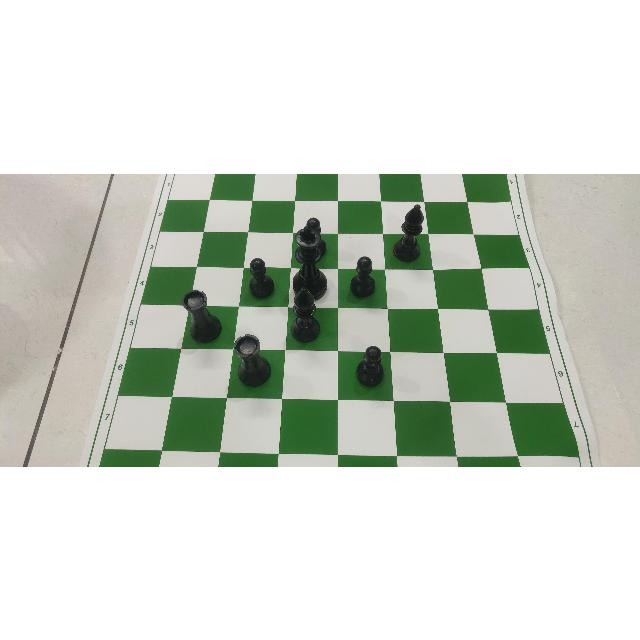black-bishop: (391, 203, 427, 262), (289, 283, 322, 345)
black-king: (291, 223, 329, 301)
black-pawn: (355, 344, 386, 388), (347, 254, 378, 298), (247, 255, 276, 299), (305, 215, 329, 258)
black-rook: (180, 288, 223, 343), (233, 332, 273, 387)
